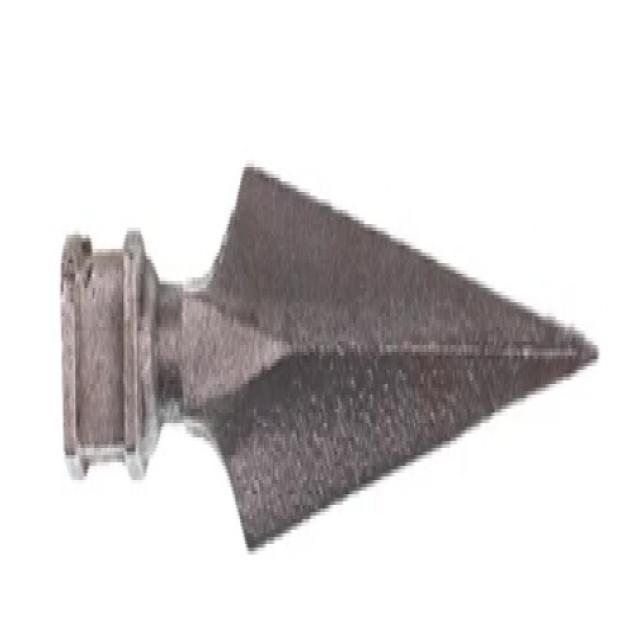spear: (48, 136, 610, 568)
